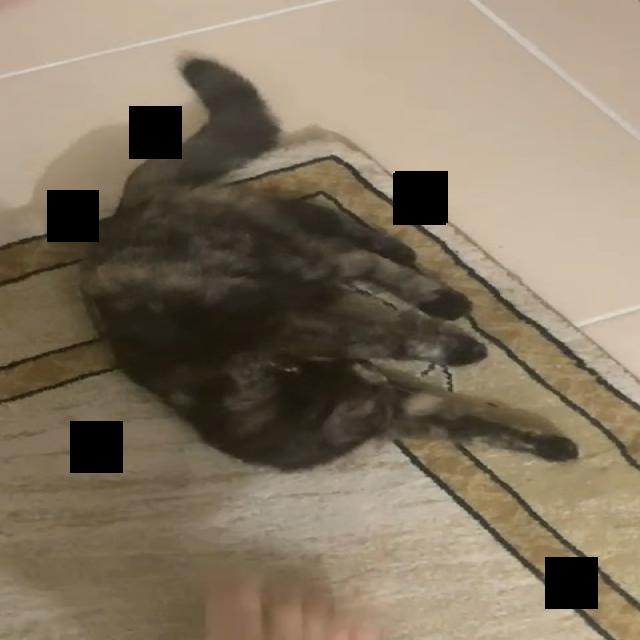authorized: (76, 50, 580, 473)
